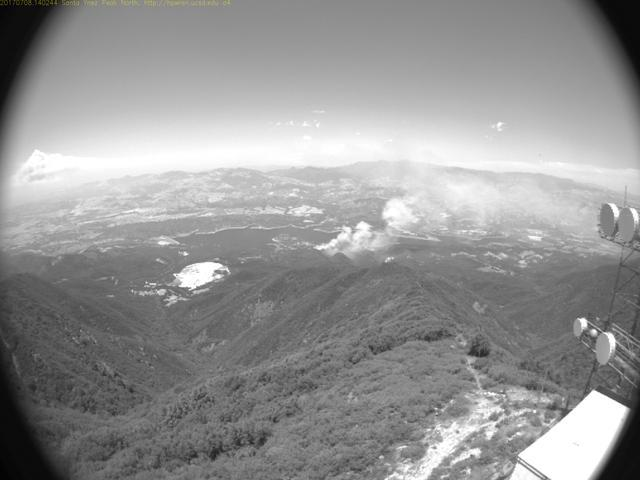smoke: (315, 158, 539, 259)
